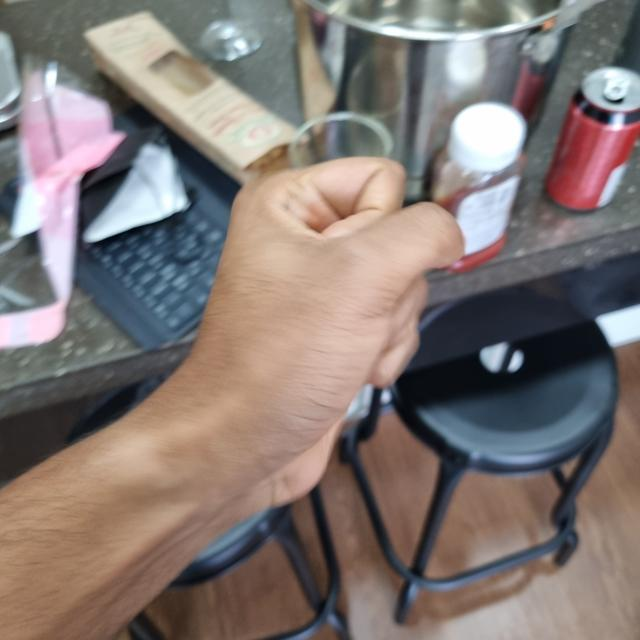Rock: (155, 150, 465, 505)
